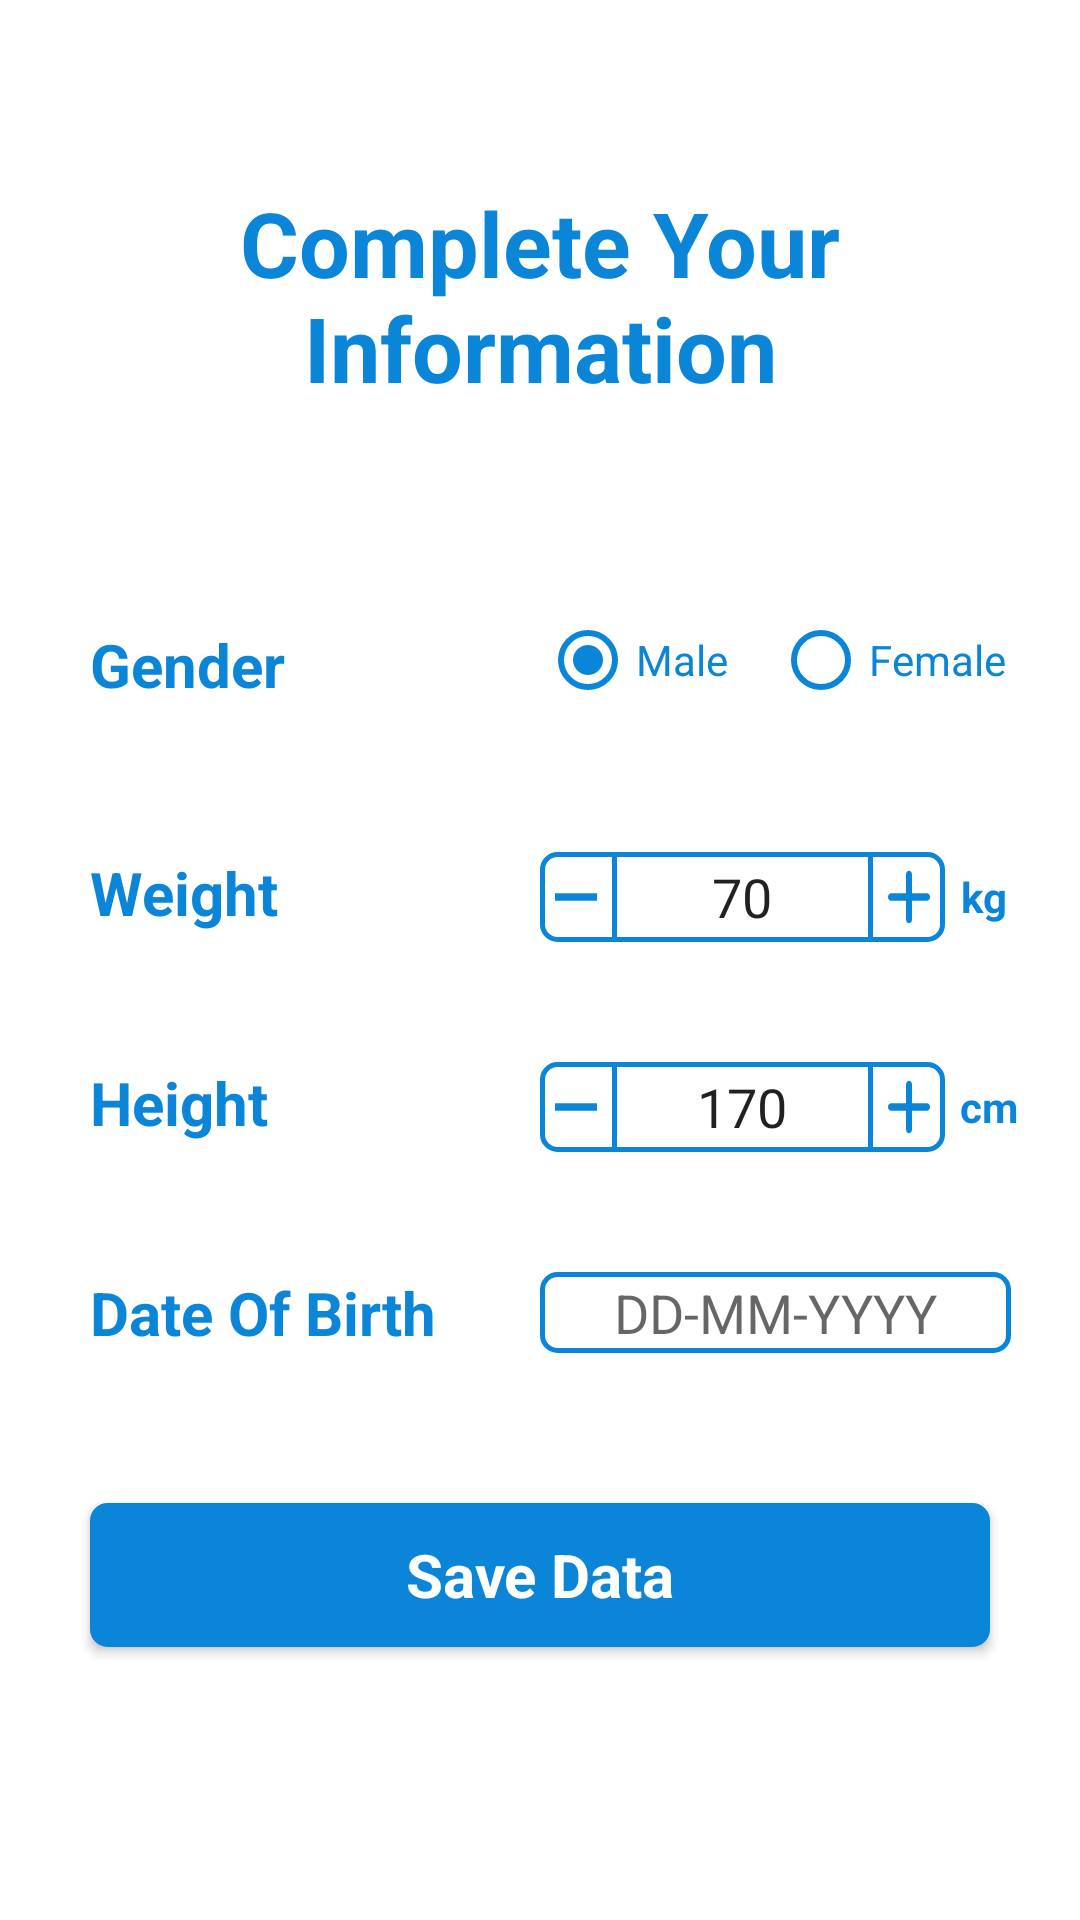

Icon click points for this 1080 x 1920 phone screenshot, format (x=x, y=y):
add: (x=909, y=897), (x=909, y=1107)
minus: (x=576, y=897), (x=576, y=1107)
